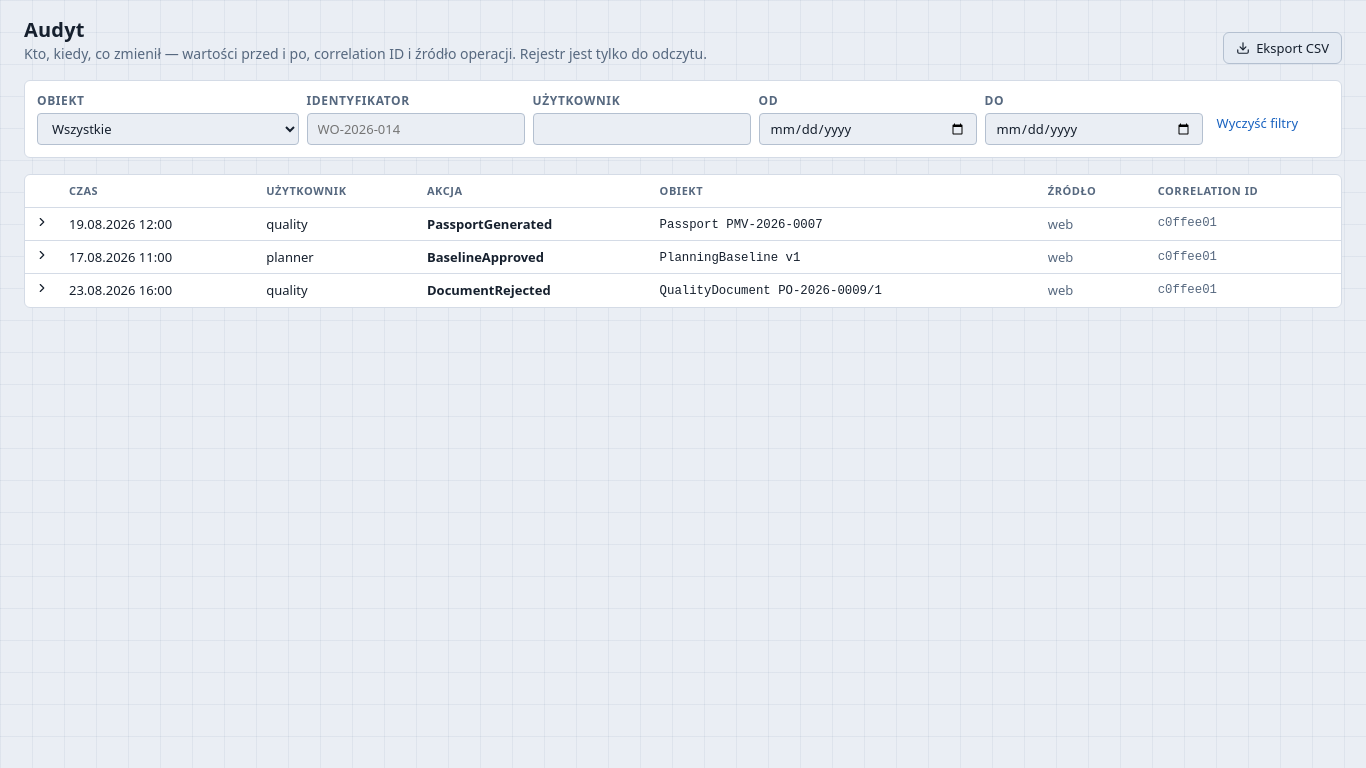
Test: Audit › expands a row to show before/after diff with changed keys highlighted
Expected: the table with test id "audit-table" is shown, [25,175,1341,307]
Click the row with test id "audit-row-a-1".
click(683, 224)  # box [25,207,1341,241]
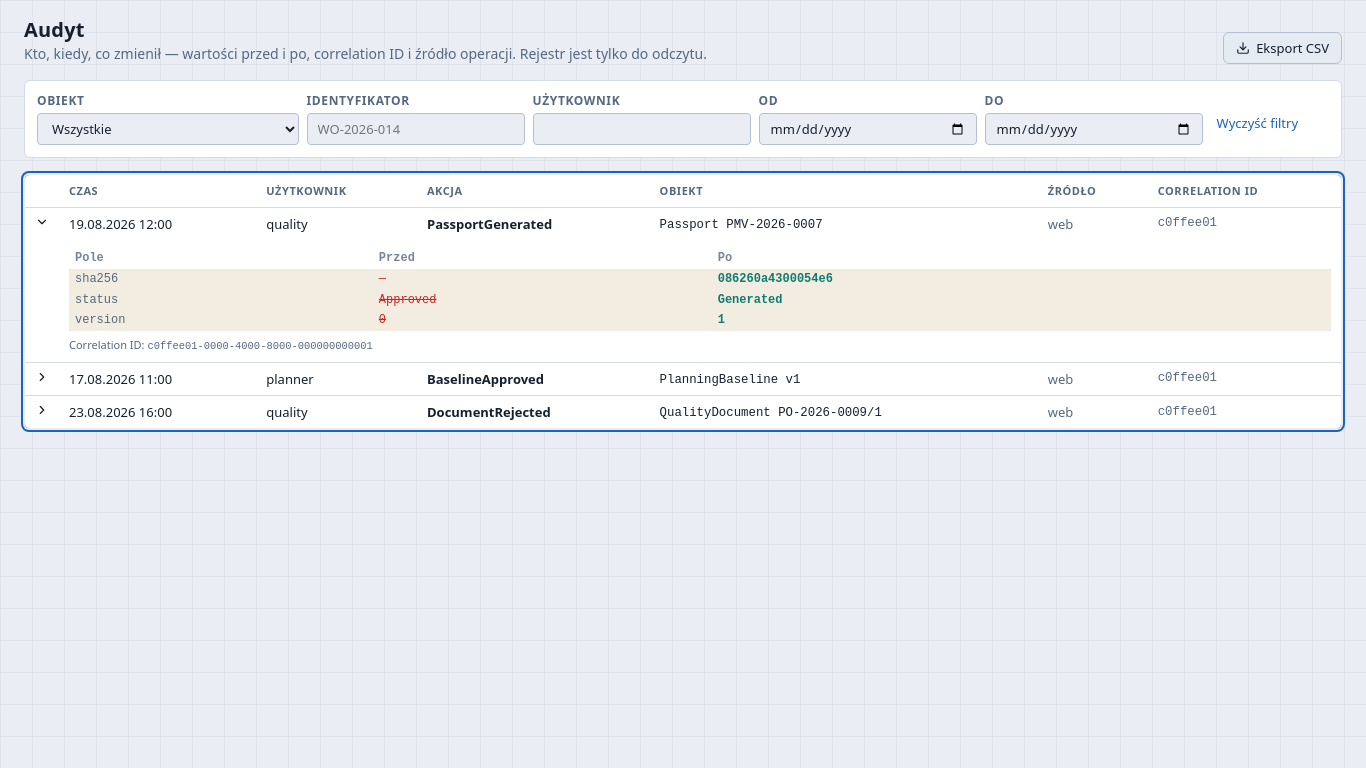
Result: the table with test id "json-diff" shows "status" at [75,293,118,307]
Result: the row with test id "audit-detail" shows "c0ffee01" at [147,340,373,352]
